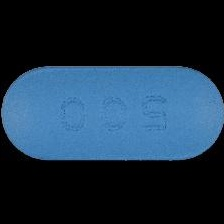66116-479: (0, 0, 224, 224)
